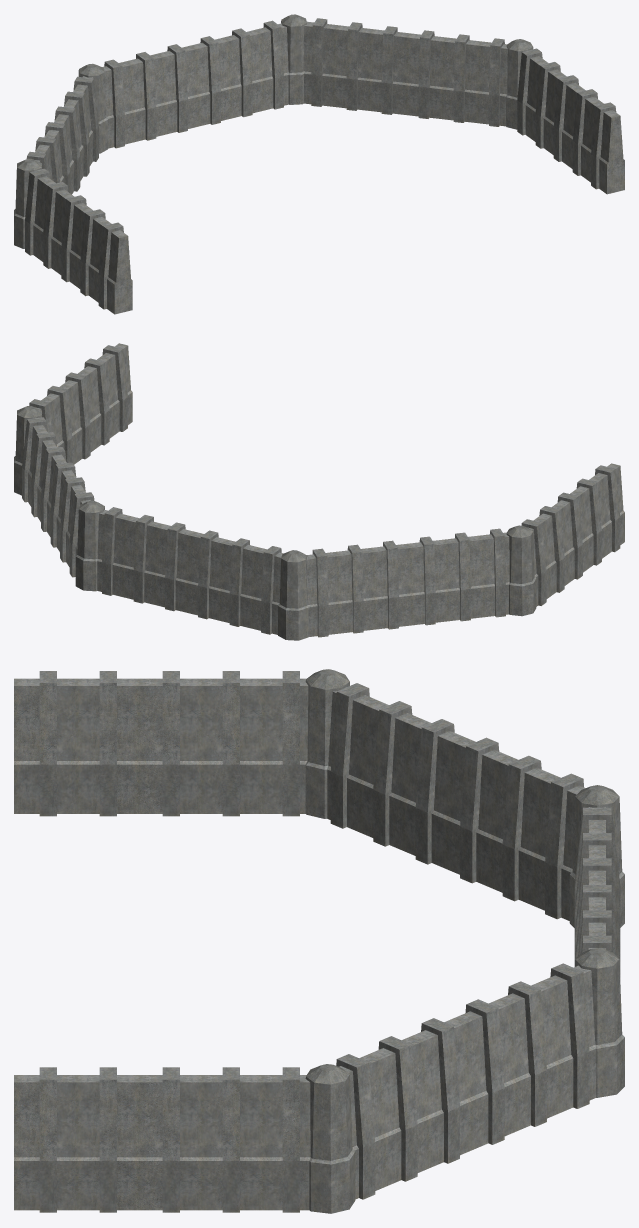
Rendered from poi_all_impl_corral_half_64x64_s01_l0.fbx.
The picture shows the model from 3 angles, top to bottom: view 1: azimuth 30°, elevation 25°; view 2: azimuth 150°, elevation 25°; view 3: azimuth 270°, elevation 25°; orthographic projection. The views are drawn at different scales.
Parts seen in each view (by area): view 1: mesh_node; view 2: mesh_node; view 3: mesh_node.
Part boxes in pixels (x1,y1,x2,y2): mesh_node: [14, 14, 624, 314]; mesh_node: [14, 343, 624, 640]; mesh_node: [14, 669, 624, 1213].
Size of the model in its own units: 43.23 by 6.5 by 26.71.
